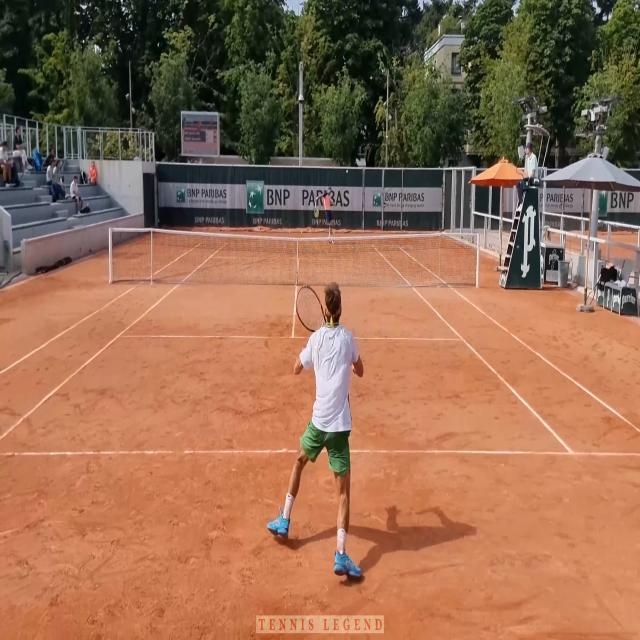ball: (346, 170, 348, 173)
